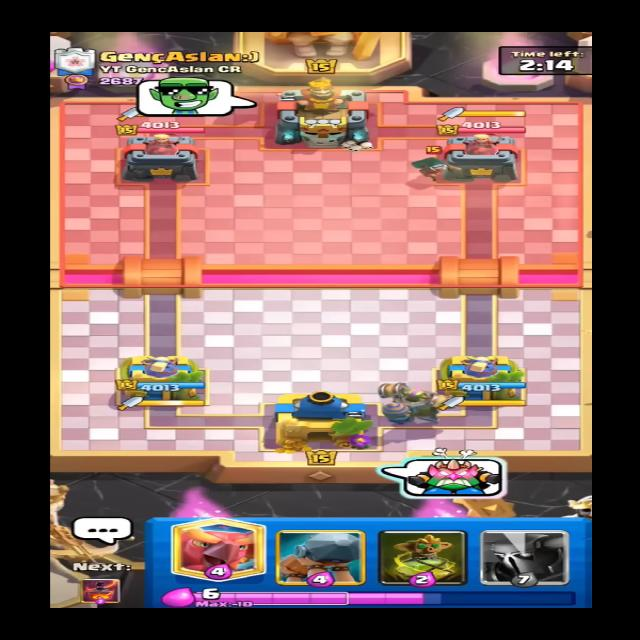bandit: (395, 141, 464, 179)
